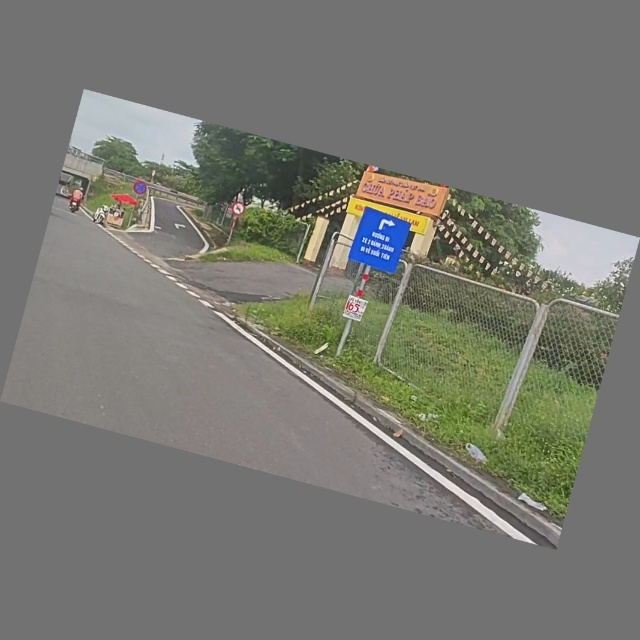P.103a: (230, 200, 248, 219)
P.130: (132, 180, 149, 197)
